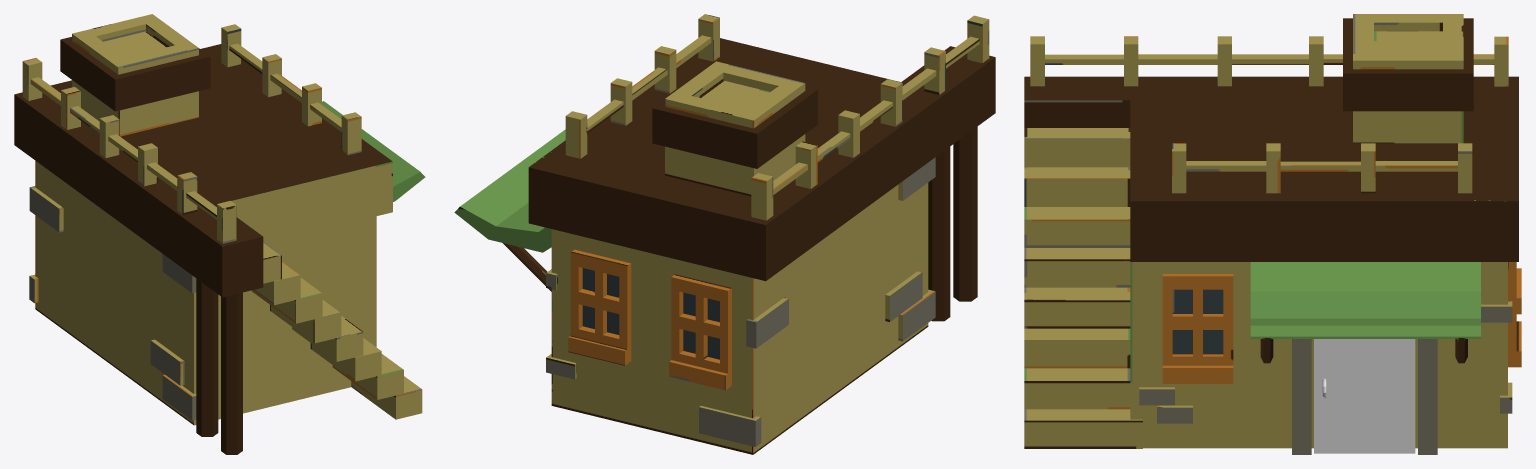
Rendered from NPC 2_210330.fbx.
The picture shows the model from 3 angles, left to right: view 1: azimuth 30°, elevation 25°; view 2: azimuth 150°, elevation 25°; view 3: azimuth 270°, elevation 25°; orthographic projection. The views are drawn at different scales.
Parts seen in each view (by area): view 1: Main Body; view 2: Main Body; view 3: Main Body, Door.
Boxes of the visible parts, x1,y1,x2,y2 form: Main Body: (14, 14, 425, 454); Main Body: (454, 14, 995, 454); Main Body: (1024, 14, 1521, 454); Door: (1314, 339, 1415, 453).
Bounding box in the file's own units: 1162 × 1060 × 1411.
1 material, 1 textured.
